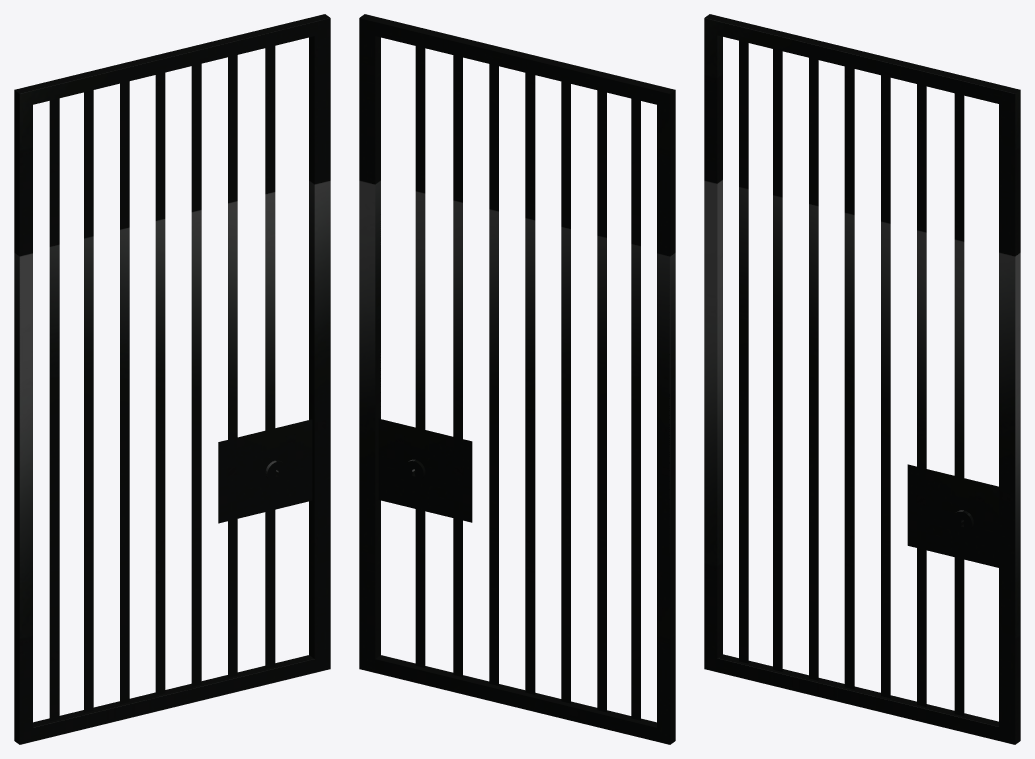
File: jail cell door.dae
3 views of the same model, side by side, from view 1: azimuth 30°, elevation 25°; view 2: azimuth 150°, elevation 25°; view 3: azimuth 330°, elevation 25° (orthographic).
Visible parts, largest first — view 1: Component_1; view 2: Component_1; view 3: Component_1.
Boxes of the visible parts, bbox=[...] form: Component_1: bbox=[14, 14, 330, 744]; Component_1: bbox=[359, 14, 675, 744]; Component_1: bbox=[704, 14, 1020, 744].
Size of the model in its own units: 96 by 3 by 192.
